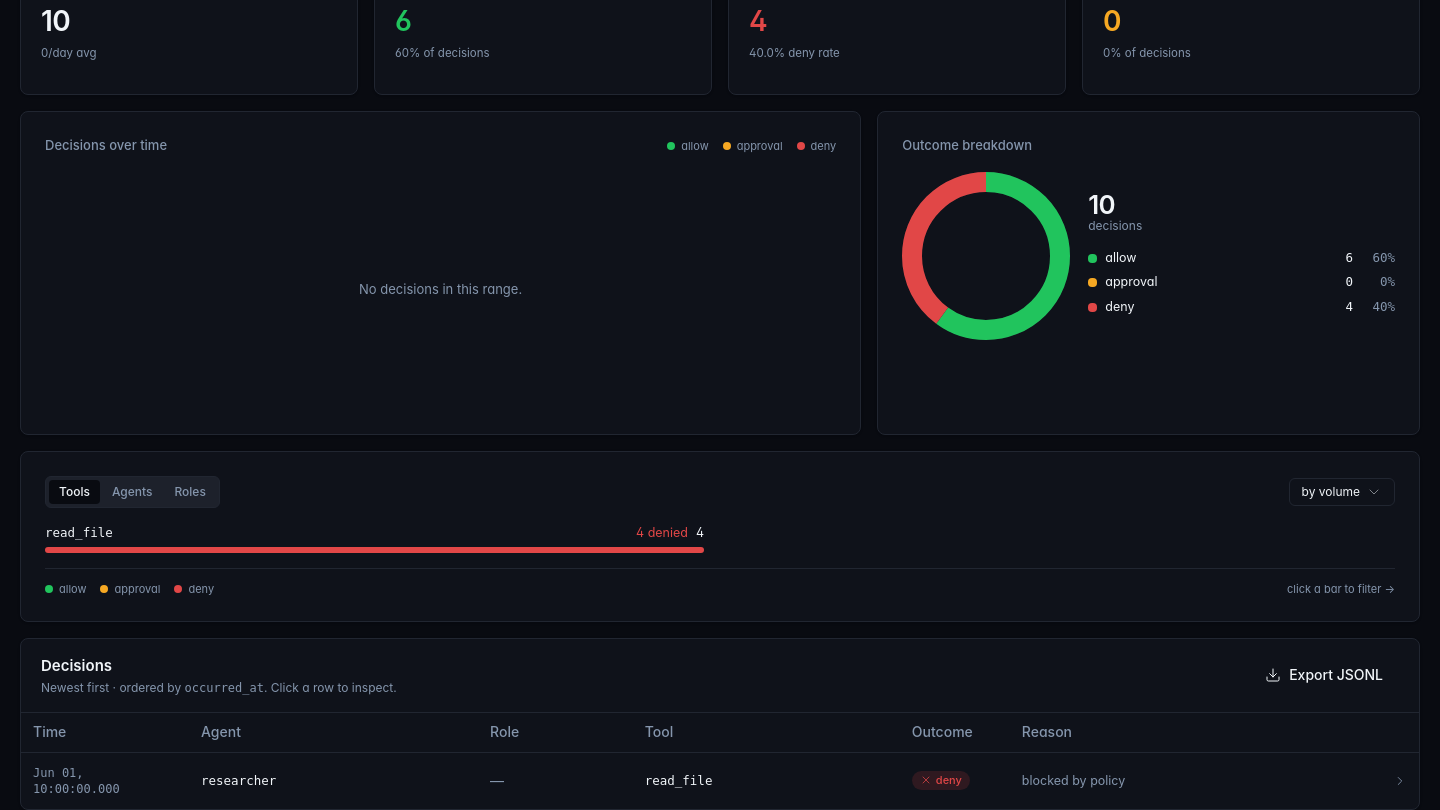
Test: AuditPage › row click opens the detail drawer; Esc closes it
(page scrolled)
Click the text "blocked by policy".
click(1074, 781)  # box [1010,752,1381,809]
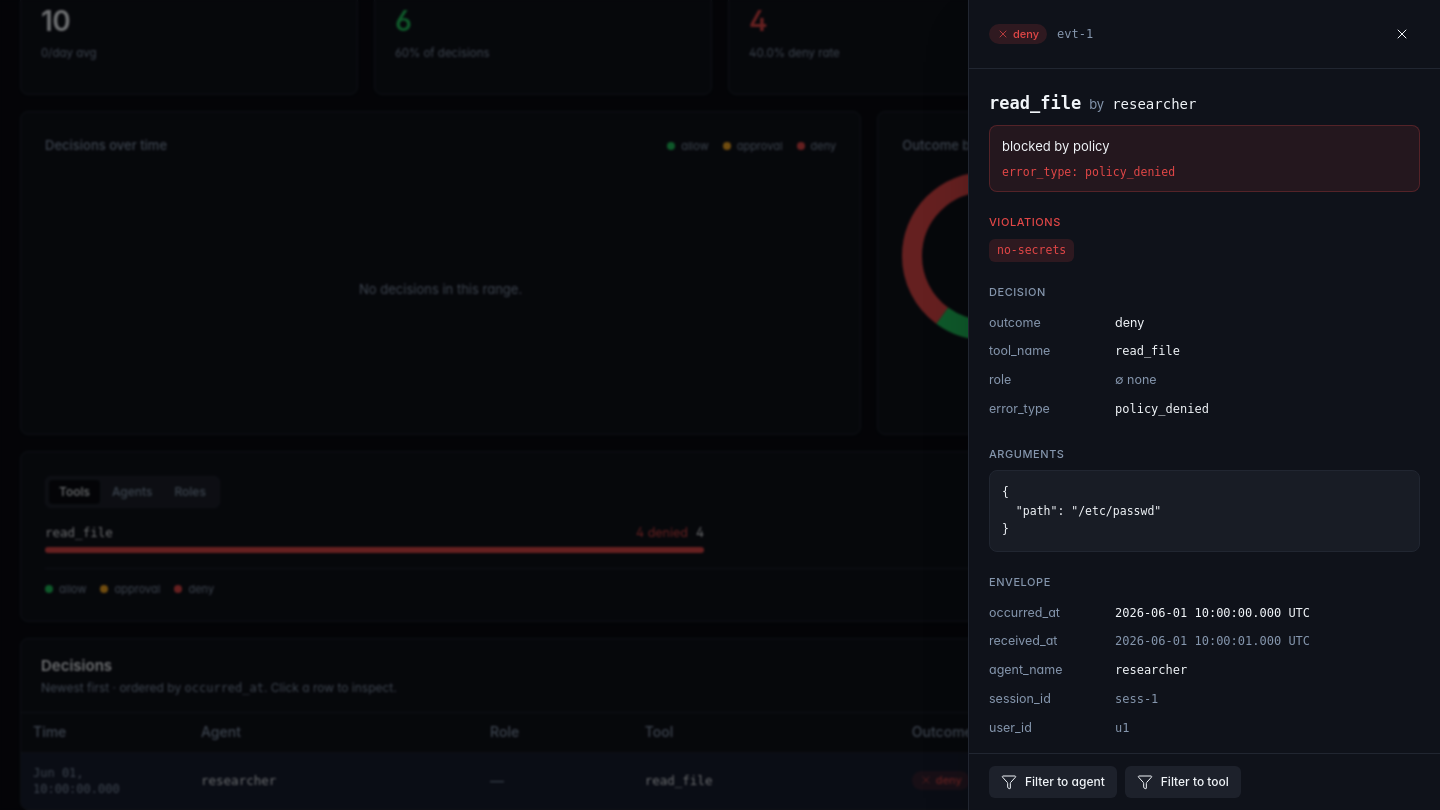
Now the text "evt-1" is shown, box [1057,27,1093,41]
Now the text "no-secrets" is shown, box [989,239,1074,262]
Now the text "Envelope" is shown, box [989,575,1051,589]
Press Escape
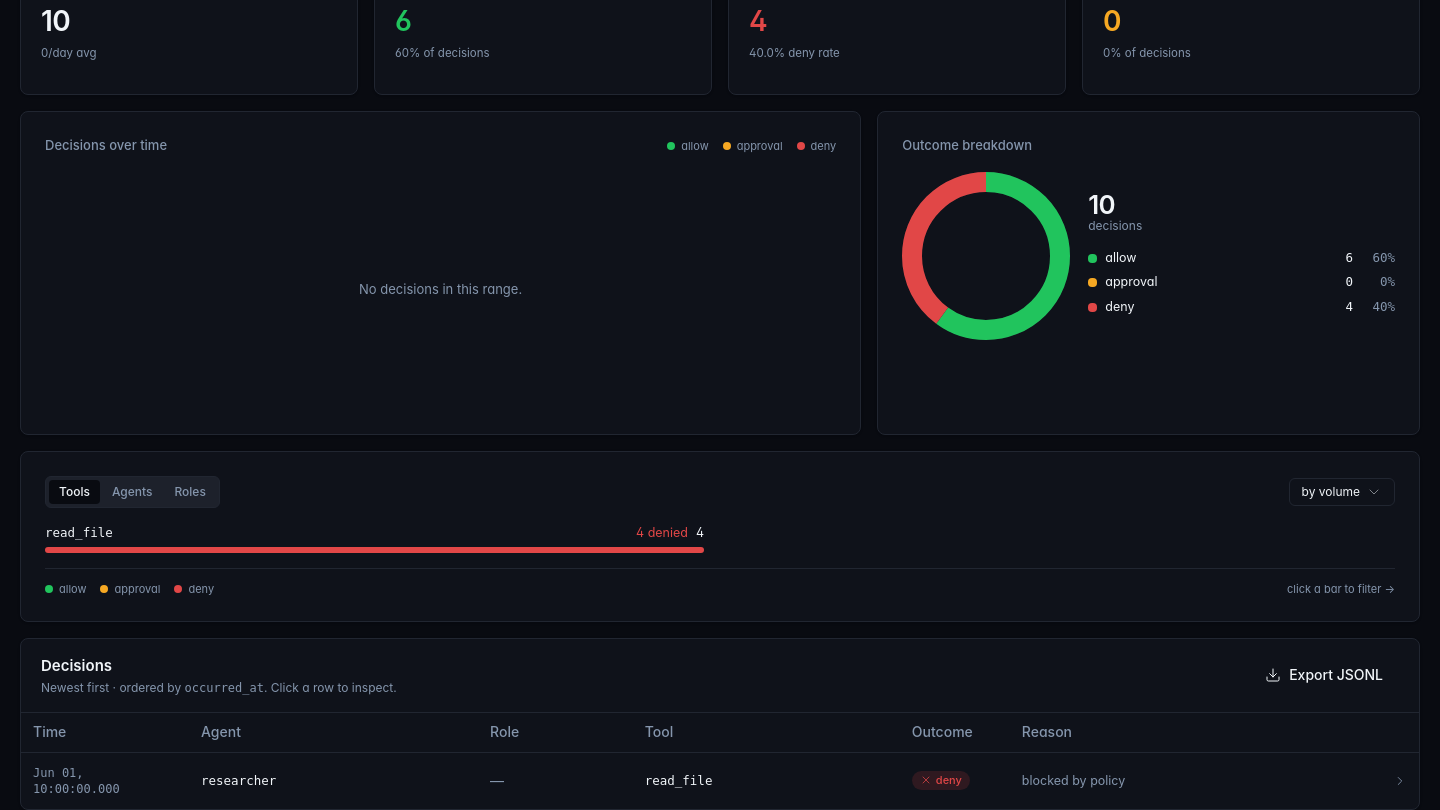
Now the text "evt-1" is gone
